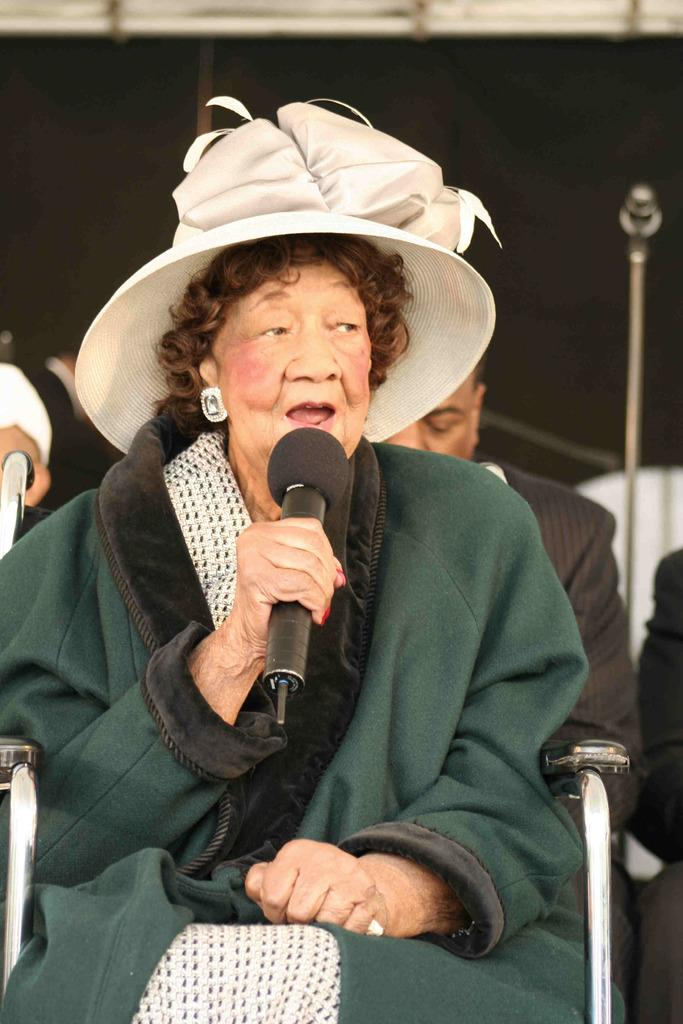Hat: (71, 91, 498, 458)
